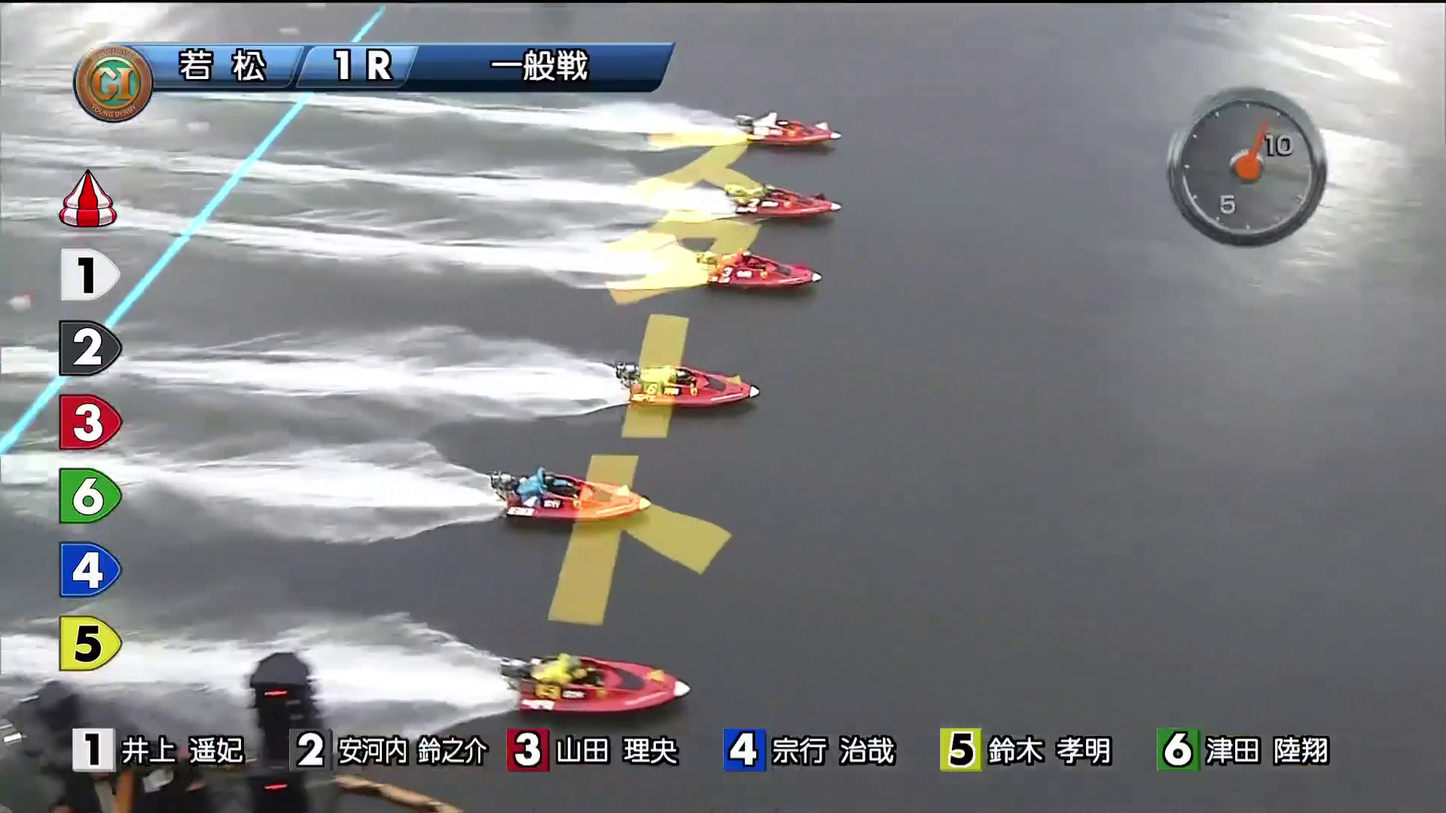１号艇: (768, 108, 826, 155)
２号艇: (735, 188, 838, 226)
３号艇: (703, 254, 828, 296)
４号艇: (651, 360, 756, 403)
５号艇: (518, 465, 638, 520)
６号艇: (517, 655, 675, 712)
